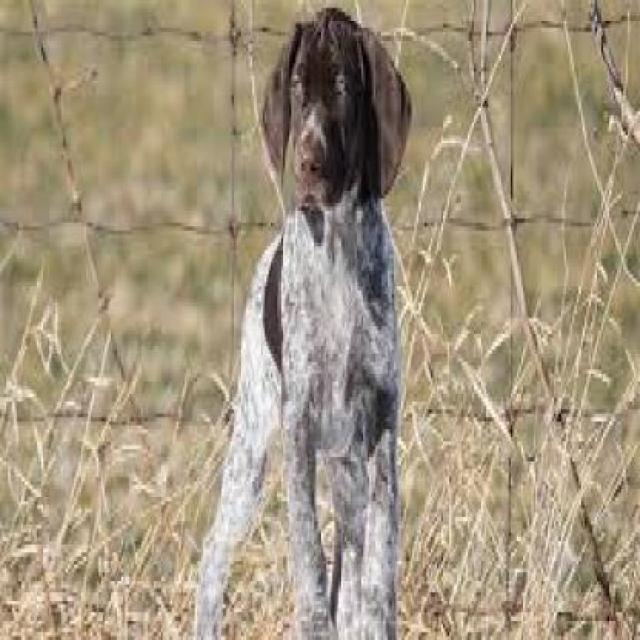animals: (186, 5, 414, 627)
